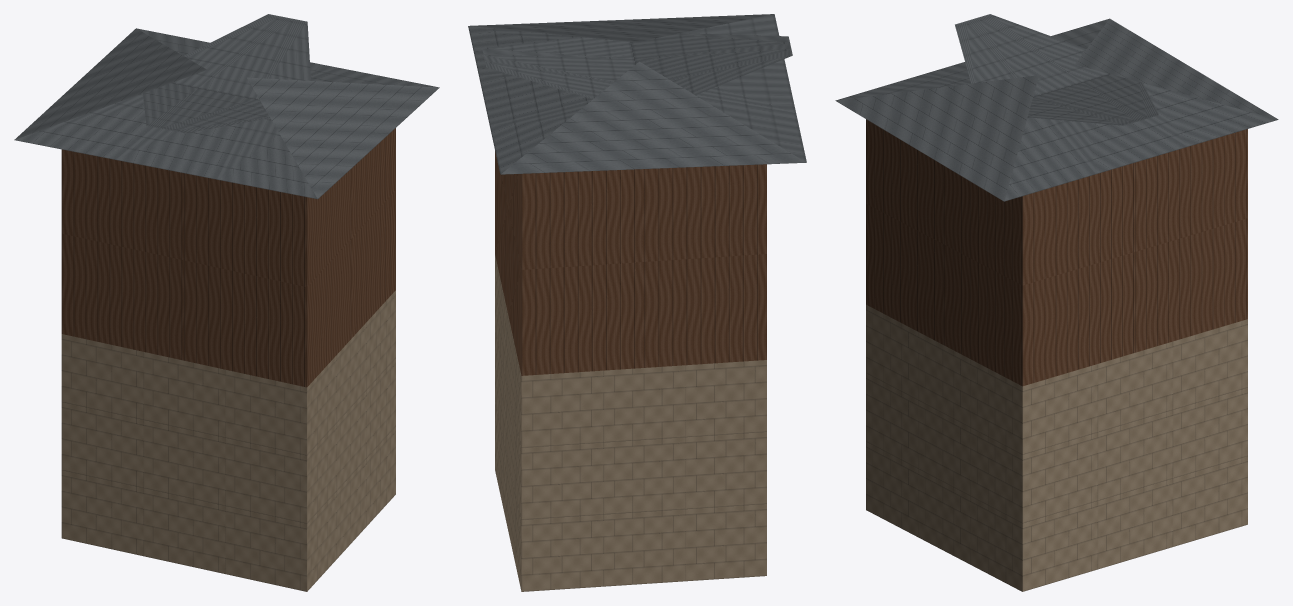
The model's file is bld_c2_-15_674.gltf.
3 renders of one model, left to right at view 1: azimuth 30°, elevation 25°; view 2: azimuth 150°, elevation 25°; view 3: azimuth 270°, elevation 25°, orthographic. The views are drawn at different scales.
Parts seen in each view (by area): view 1: bld_c2_-15_674; view 2: bld_c2_-15_674; view 3: bld_c2_-15_674.
Part boxes in pixels (x1=…): bld_c2_-15_674: x1=14, y1=14, x2=439, y2=591; bld_c2_-15_674: x1=468, y1=14, x2=806, y2=591; bld_c2_-15_674: x1=835, y1=14, x2=1278, y2=591.
Bounding box in the file's own units: 9.74 × 11.1 × 9.97.
3 materials, 3 textured.
